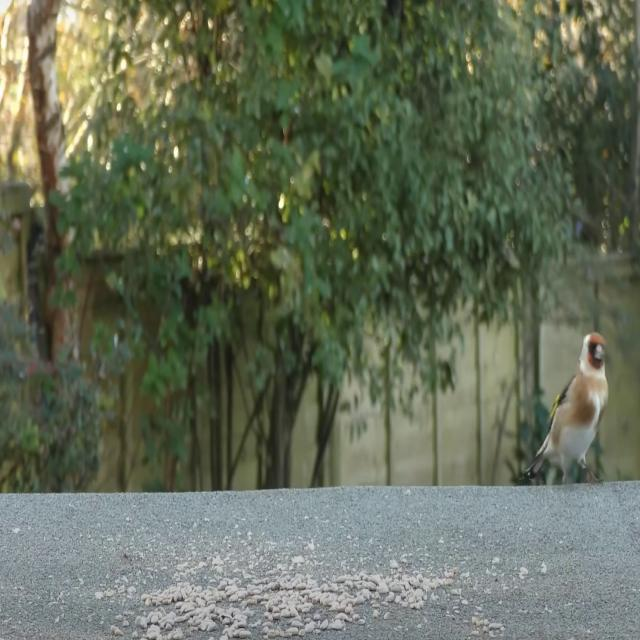beak: (593, 342, 607, 365)
bird: (519, 330, 612, 490)
